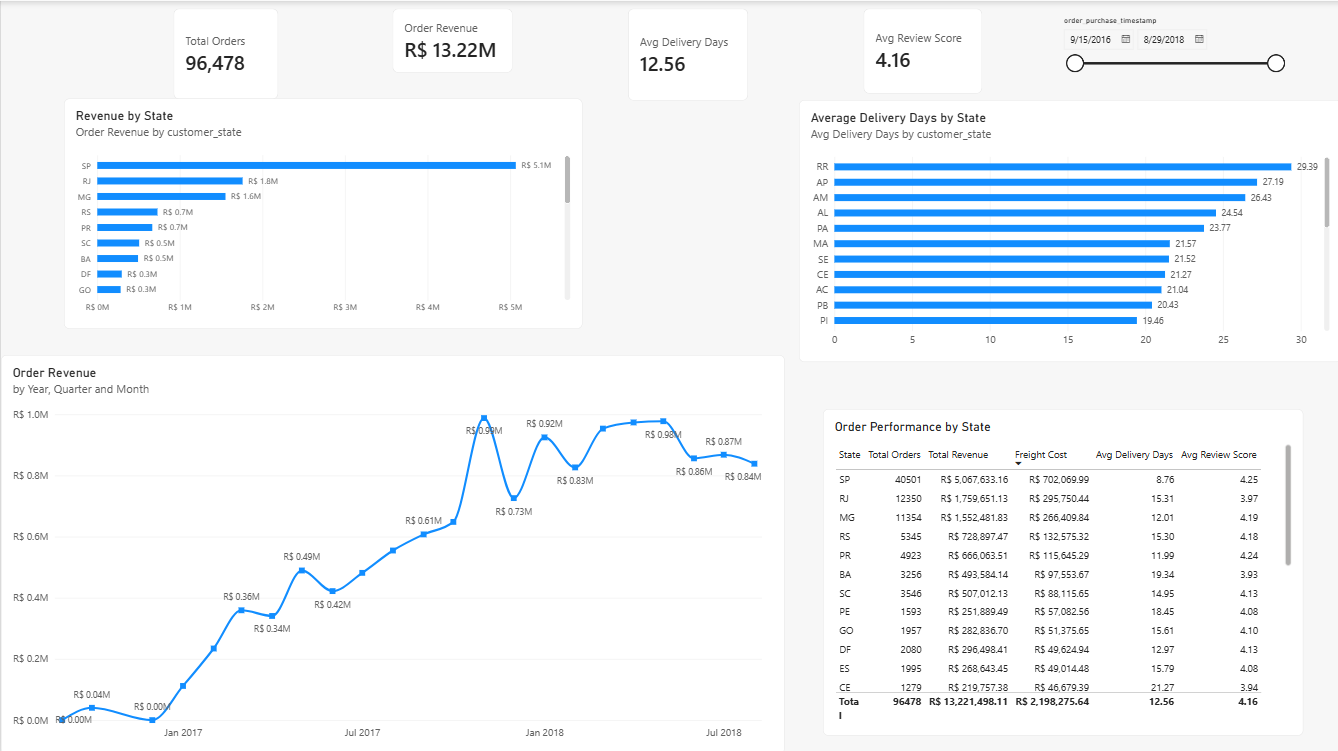

The dashboard page shown, as its layout file describes it:
{"tool":"powerbi","page":{"name":"Order Performance","canvas":[1920,1080],"ordinal":1},"visuals":[{"type":"tableEx","title":"Order Performance by State","fields":{"Values":["powerbi_order_fact.customer_state","powerbi_order_fact.order_id","Sum(powerbi_order_fact.item_revenue)","Sum(powerbi_order_fact.freight_value)","Avg(powerbi_order_fact.delivery_days)","Avg(powerbi_order_fact.review_score)"]},"box":[1176.5,583.7,688.2,467.9],"z":0},{"type":"cardVisual","fields":{"Data":["customer_segments.Total Orders"]},"box":[247.5,10,150,130],"z":1000},{"type":"cardVisual","fields":{"Data":["customer_segments.Order Revenue"]},"box":[561.7,10,172.5,92.5],"z":2000},{"type":"cardVisual","fields":{"Data":["customer_segments.Avg Delivery Days"]},"box":[898.3,10,172.5,132.5],"z":3000},{"type":"cardVisual","fields":{"Data":["customer_segments.Avg Review Score"]},"box":[1235,10,170,122.5],"z":4000},{"type":"clusteredBarChart","title":"Revenue by State","fields":{"Category":["powerbi_order_fact.customer_state"],"Y":["customer_segments.Order Revenue"]},"box":[90,140,742.5,330],"z":5000},{"type":"clusteredBarChart","title":"Average Delivery Days by State","fields":{"Category":["powerbi_order_fact.customer_state"],"Y":["customer_segments.Avg Delivery Days"]},"box":[1142.5,142.5,777.5,375],"z":6000},{"type":"lineChart","fields":{"Category":["powerbi_order_fact.order_purchase_timestamp.Variation.Date Hierarchy.Year","powerbi_order_fact.order_purchase_timestamp.Variation.Date Hierarchy.Quarter","powerbi_order_fact.order_purchase_timestamp.Variation.Date Hierarchy.Month","powerbi_order_fact.order_purchase_timestamp.Variation.Date Hierarchy.Day"],"Y":["customer_segments.Order Revenue"]},"box":[0,507.5,1122.5,572.5],"z":6001},{"type":"slicer","fields":{"Values":["powerbi_order_fact.order_purchase_timestamp"]},"box":[1515,22.5,327.5,107.5],"z":6002}]}

Visuals, with their boxes in screenshot pixels (x1, y1, x2, y2), scaled from the page's 1920x1080 canvas onto the 1338x751 screenshot:
"Order Performance by State" tableEx: select_region(820, 406, 1299, 731)
cardVisual - customer_segments.Total Orders: select_region(172, 7, 277, 97)
cardVisual - customer_segments.Order Revenue: select_region(391, 7, 512, 71)
cardVisual - customer_segments.Avg Delivery Days: select_region(626, 7, 746, 99)
cardVisual - customer_segments.Avg Review Score: select_region(861, 7, 979, 92)
"Revenue by State" clusteredBarChart: select_region(63, 97, 580, 327)
"Average Delivery Days by State" clusteredBarChart: select_region(796, 99, 1337, 360)
lineChart - powerbi_order_fact.order_purchase_timestamp.Variation.Date Hierarchy.Year x powerbi_order_fact.order_purchase_timestamp.Variation.Date Hierarchy.Quarter: select_region(0, 353, 782, 750)
slicer - powerbi_order_fact.order_purchase_timestamp: select_region(1056, 16, 1284, 90)
